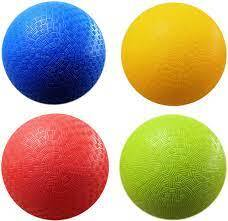Ball: (1, 113, 109, 220), (120, 114, 228, 219), (120, 1, 227, 106), (1, 1, 107, 104)
